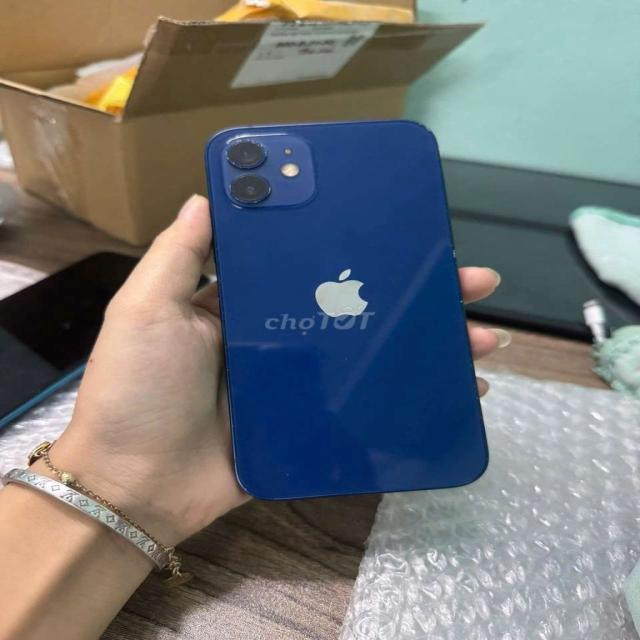gen_12_13: (200, 120, 495, 510)
